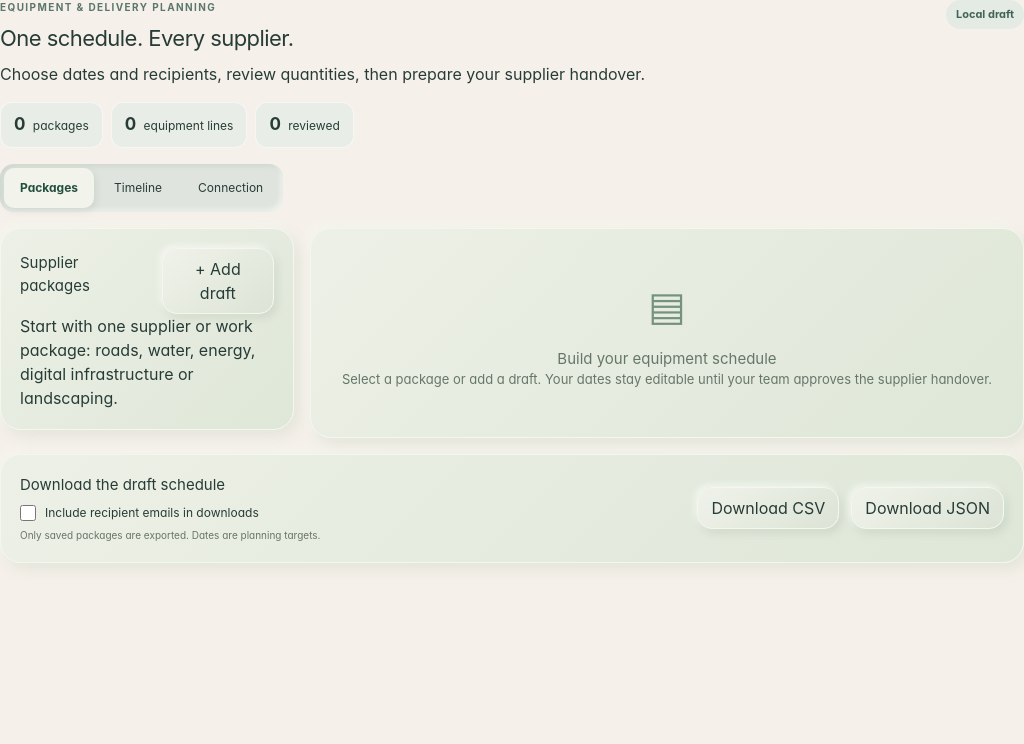
City ordering dashboard › retains the request id across uncertain cloud save retries
Click the button "Connection". click: (231, 188)
box: top-left (182, 168), bottom-right (279, 208)
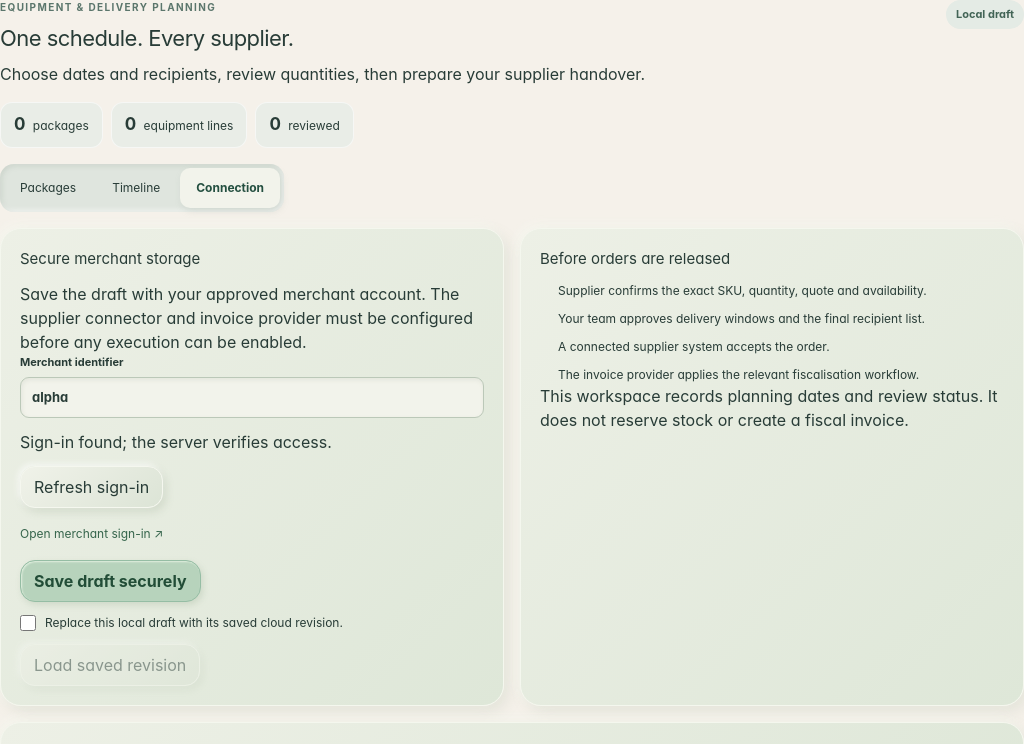
Result: the button "Save draft securely" is shown
Click the button "Save draft securely". click: (110, 581)
box: top-left (20, 560), bottom-right (200, 602)
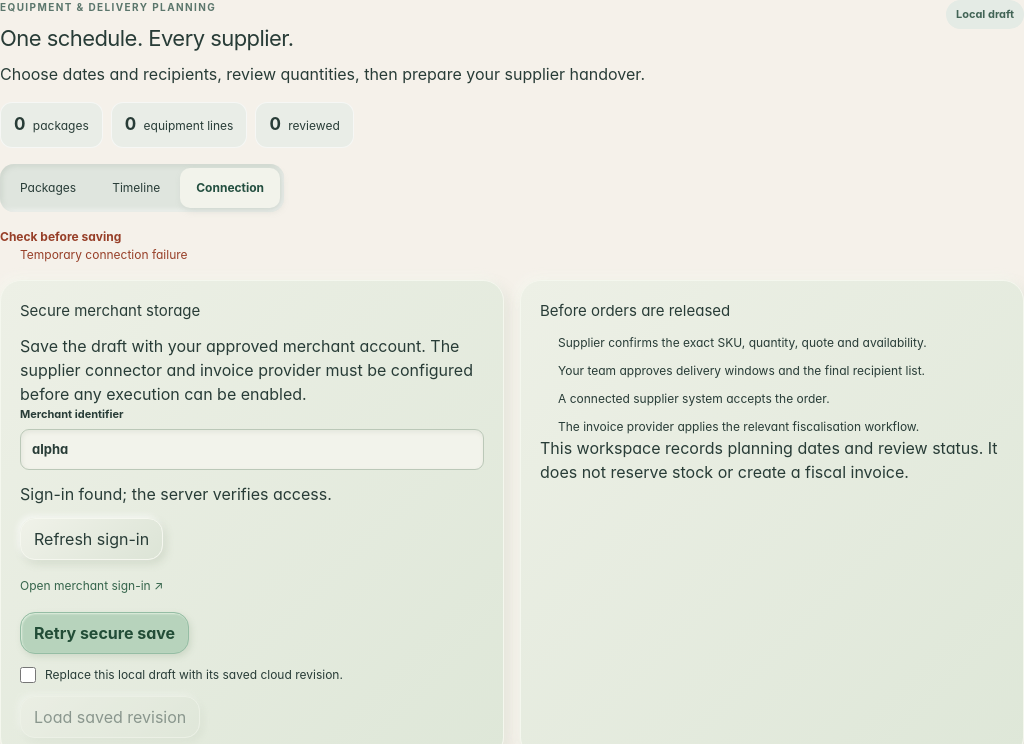
Result: the button "Retry secure save" is shown
Click the button "Retry secure save". click: (105, 633)
box: top-left (20, 612), bottom-right (189, 654)
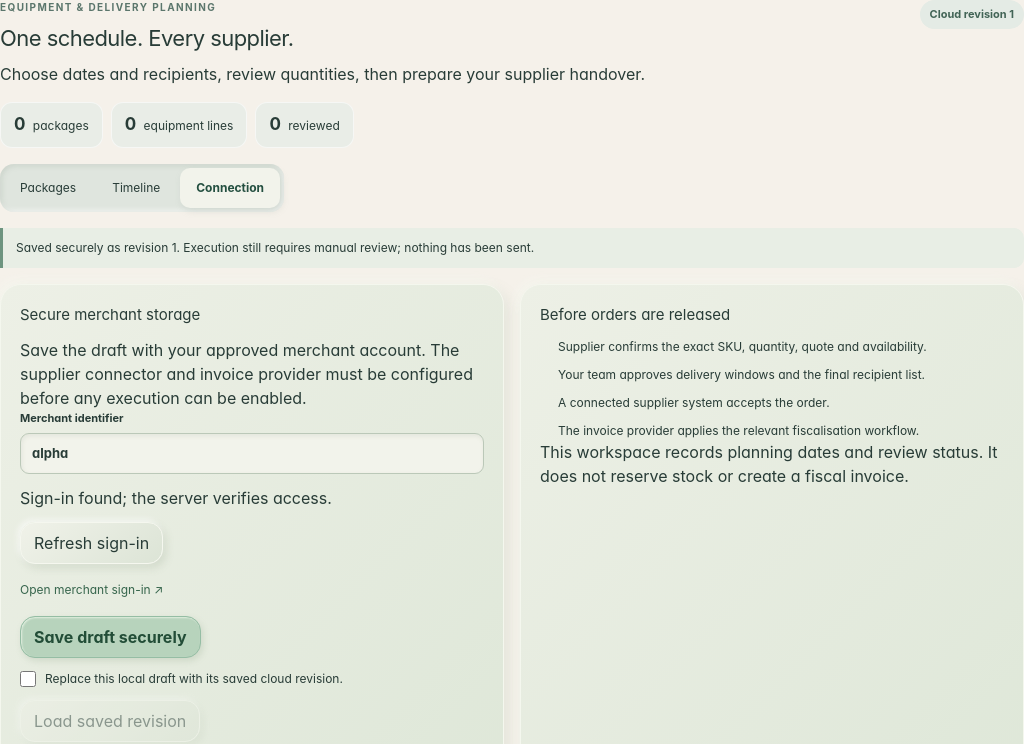
Result: the text "Saved securely as revision 1" is shown at top-left (16, 240), bottom-right (534, 254)
